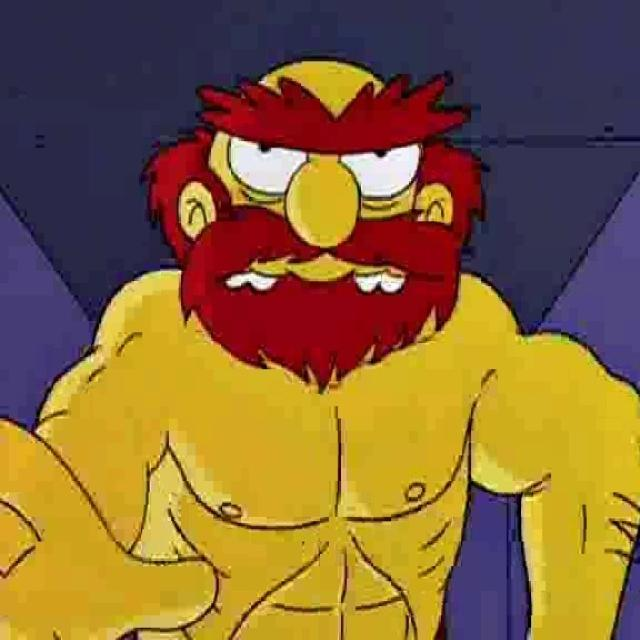Groundskeeper Willie: (136, 52, 493, 397)
